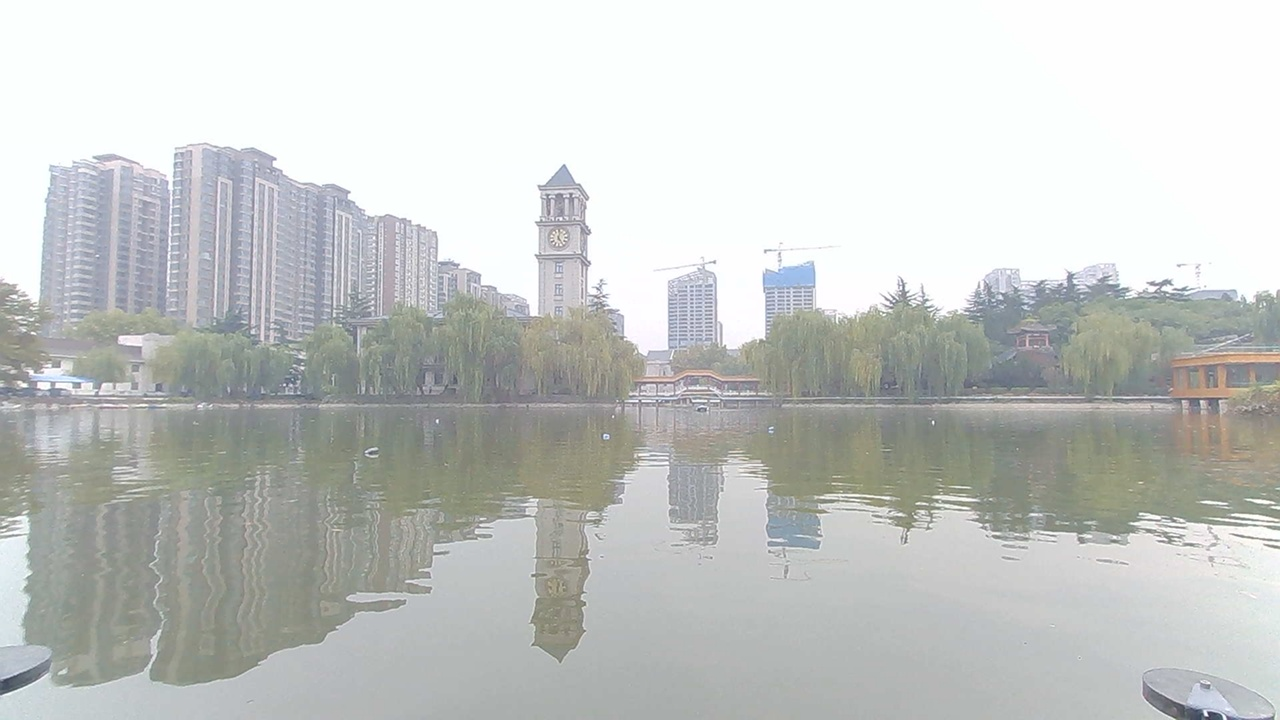bottle: (364, 436, 401, 465), (416, 408, 453, 437), (751, 423, 785, 450), (928, 408, 958, 434), (592, 433, 629, 454), (600, 406, 629, 428)
